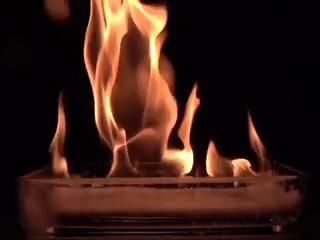Fire: (130, 12, 229, 181)
